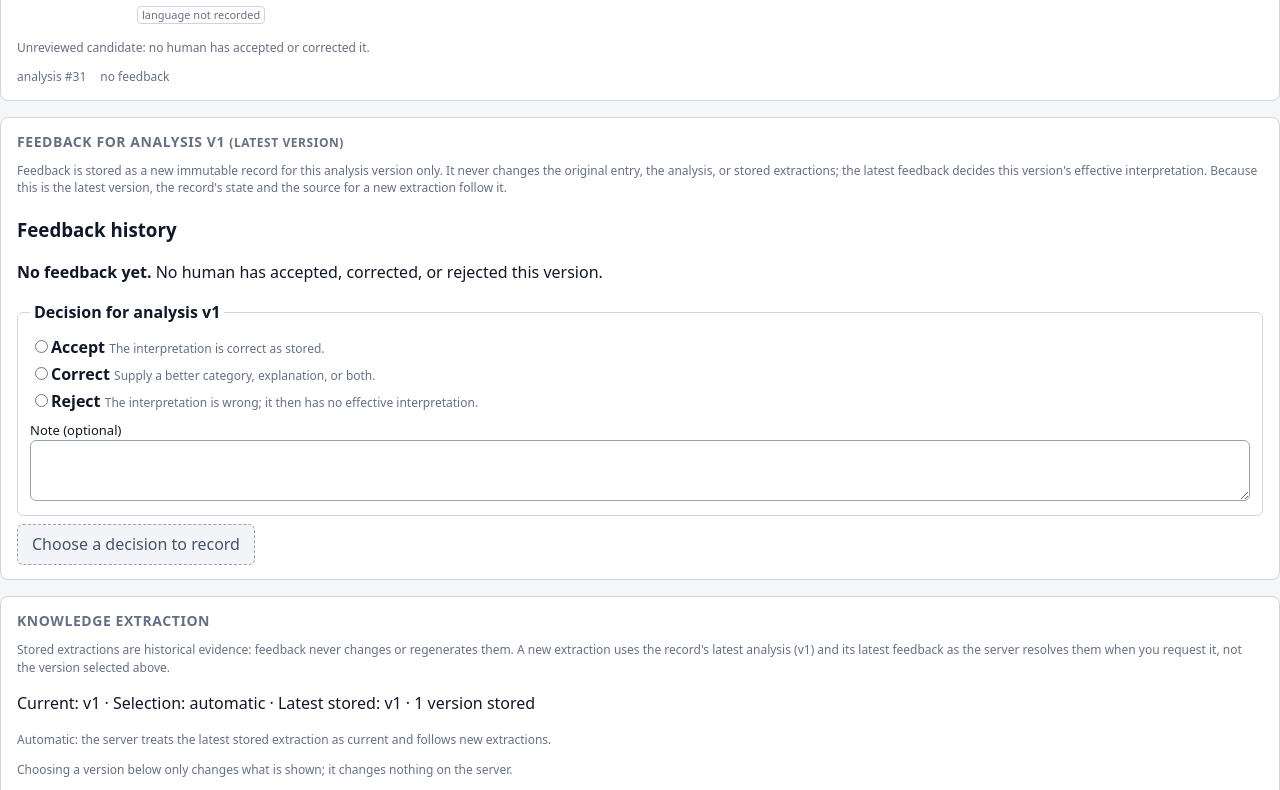
Test: Record feedback decisions › rejects an analysis and shows the backend's rejected interpretation
The width and height of the screenshot is (1280, 790).
(page scrolled)
Expected: the text "No feedback yet." is shown, [17, 261, 152, 283]
Click the 3rd radio button. click: {"x": 42, "y": 401}
box: [35, 394, 48, 407]
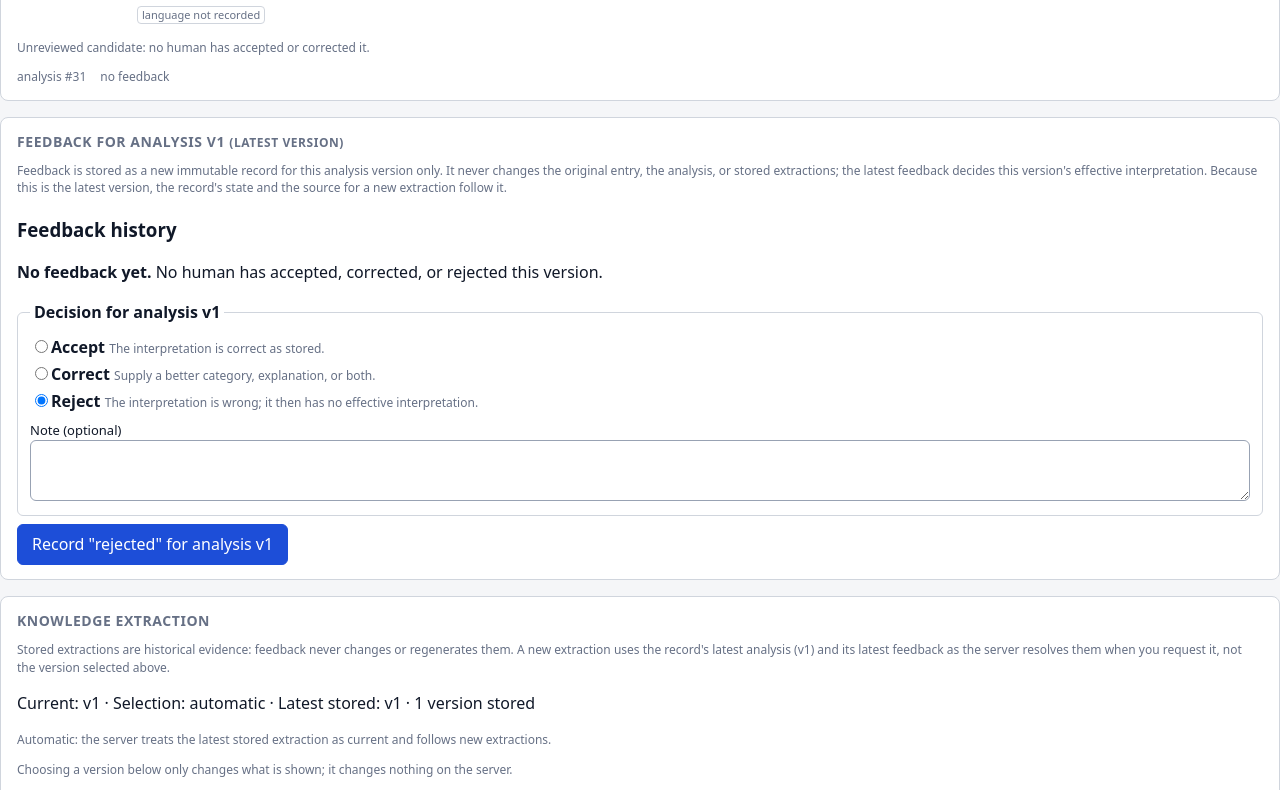
Click the button "Record \"rejected\" for analysis v1". click: {"x": 153, "y": 544}
box: [17, 524, 288, 565]
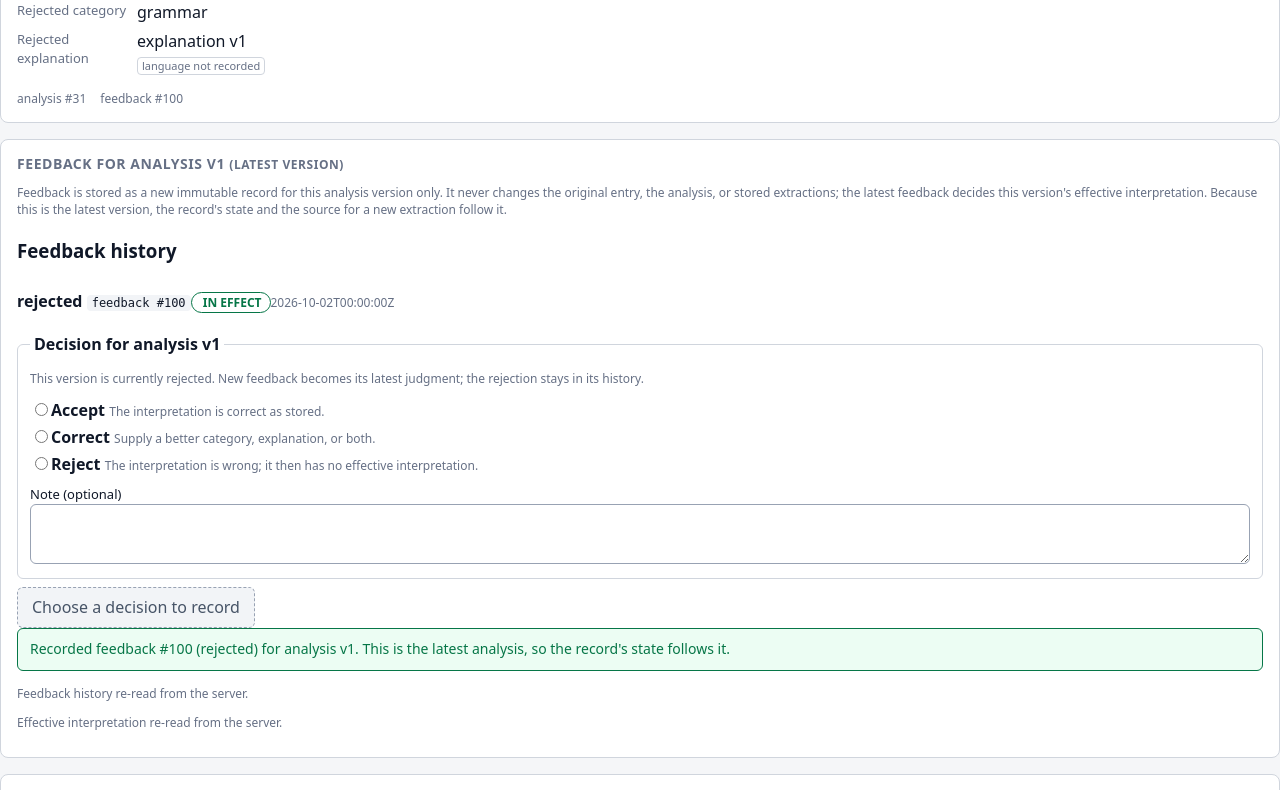
Expected: the 1st message is shown, [17, 628, 1263, 671]
Expected: the text "currently rejected" is shown, [30, 370, 644, 387]
